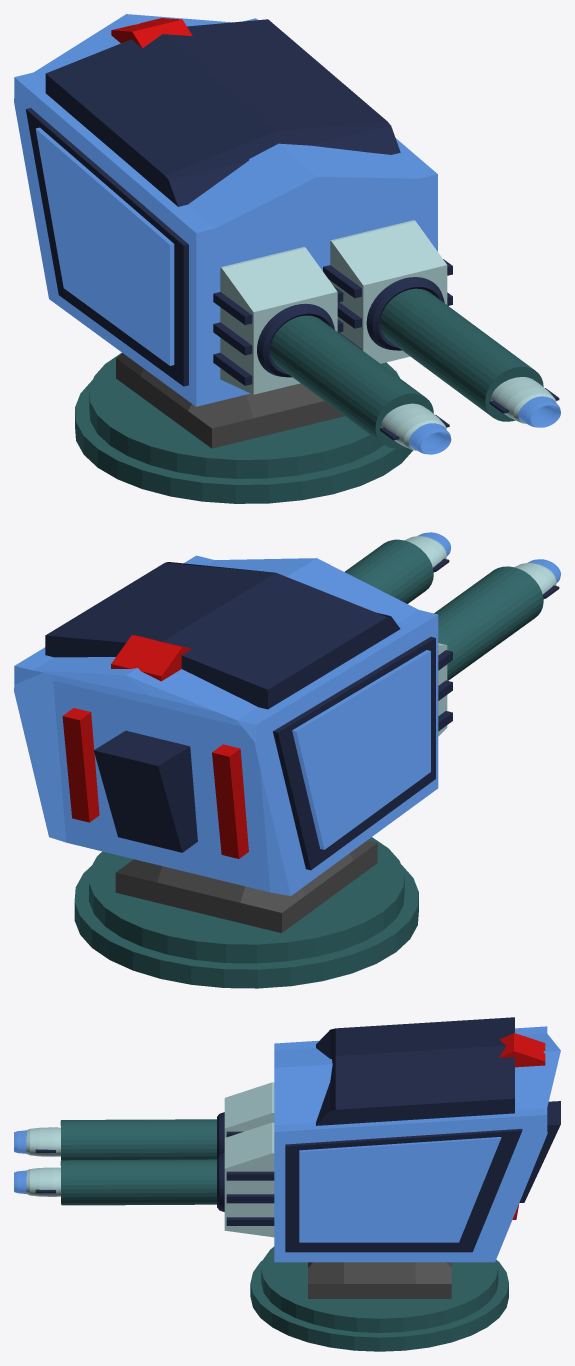
The model's file is Turm 6.fbx.
3 views of the same model, one above another, from view 1: azimuth 30°, elevation 25°; view 2: azimuth 150°, elevation 25°; view 3: azimuth 270°, elevation 25° (orthographic). The views are drawn at different scales.
Parts seen in each view (by area): view 1: Cube.002, Cube; view 2: Cube.002, Cube; view 3: Cube.002, Cube.
Boxes of the visible parts, x1,y1,x2,y2 form: Cube.002: [14, 14, 560, 478]; Cube: [75, 380, 412, 503]; Cube.002: [14, 532, 560, 963]; Cube: [74, 864, 418, 988]; Cube.002: [14, 1017, 560, 1332]; Cube: [250, 1260, 508, 1351].
Bounding box in the file's own units: 171 × 186 × 362.
